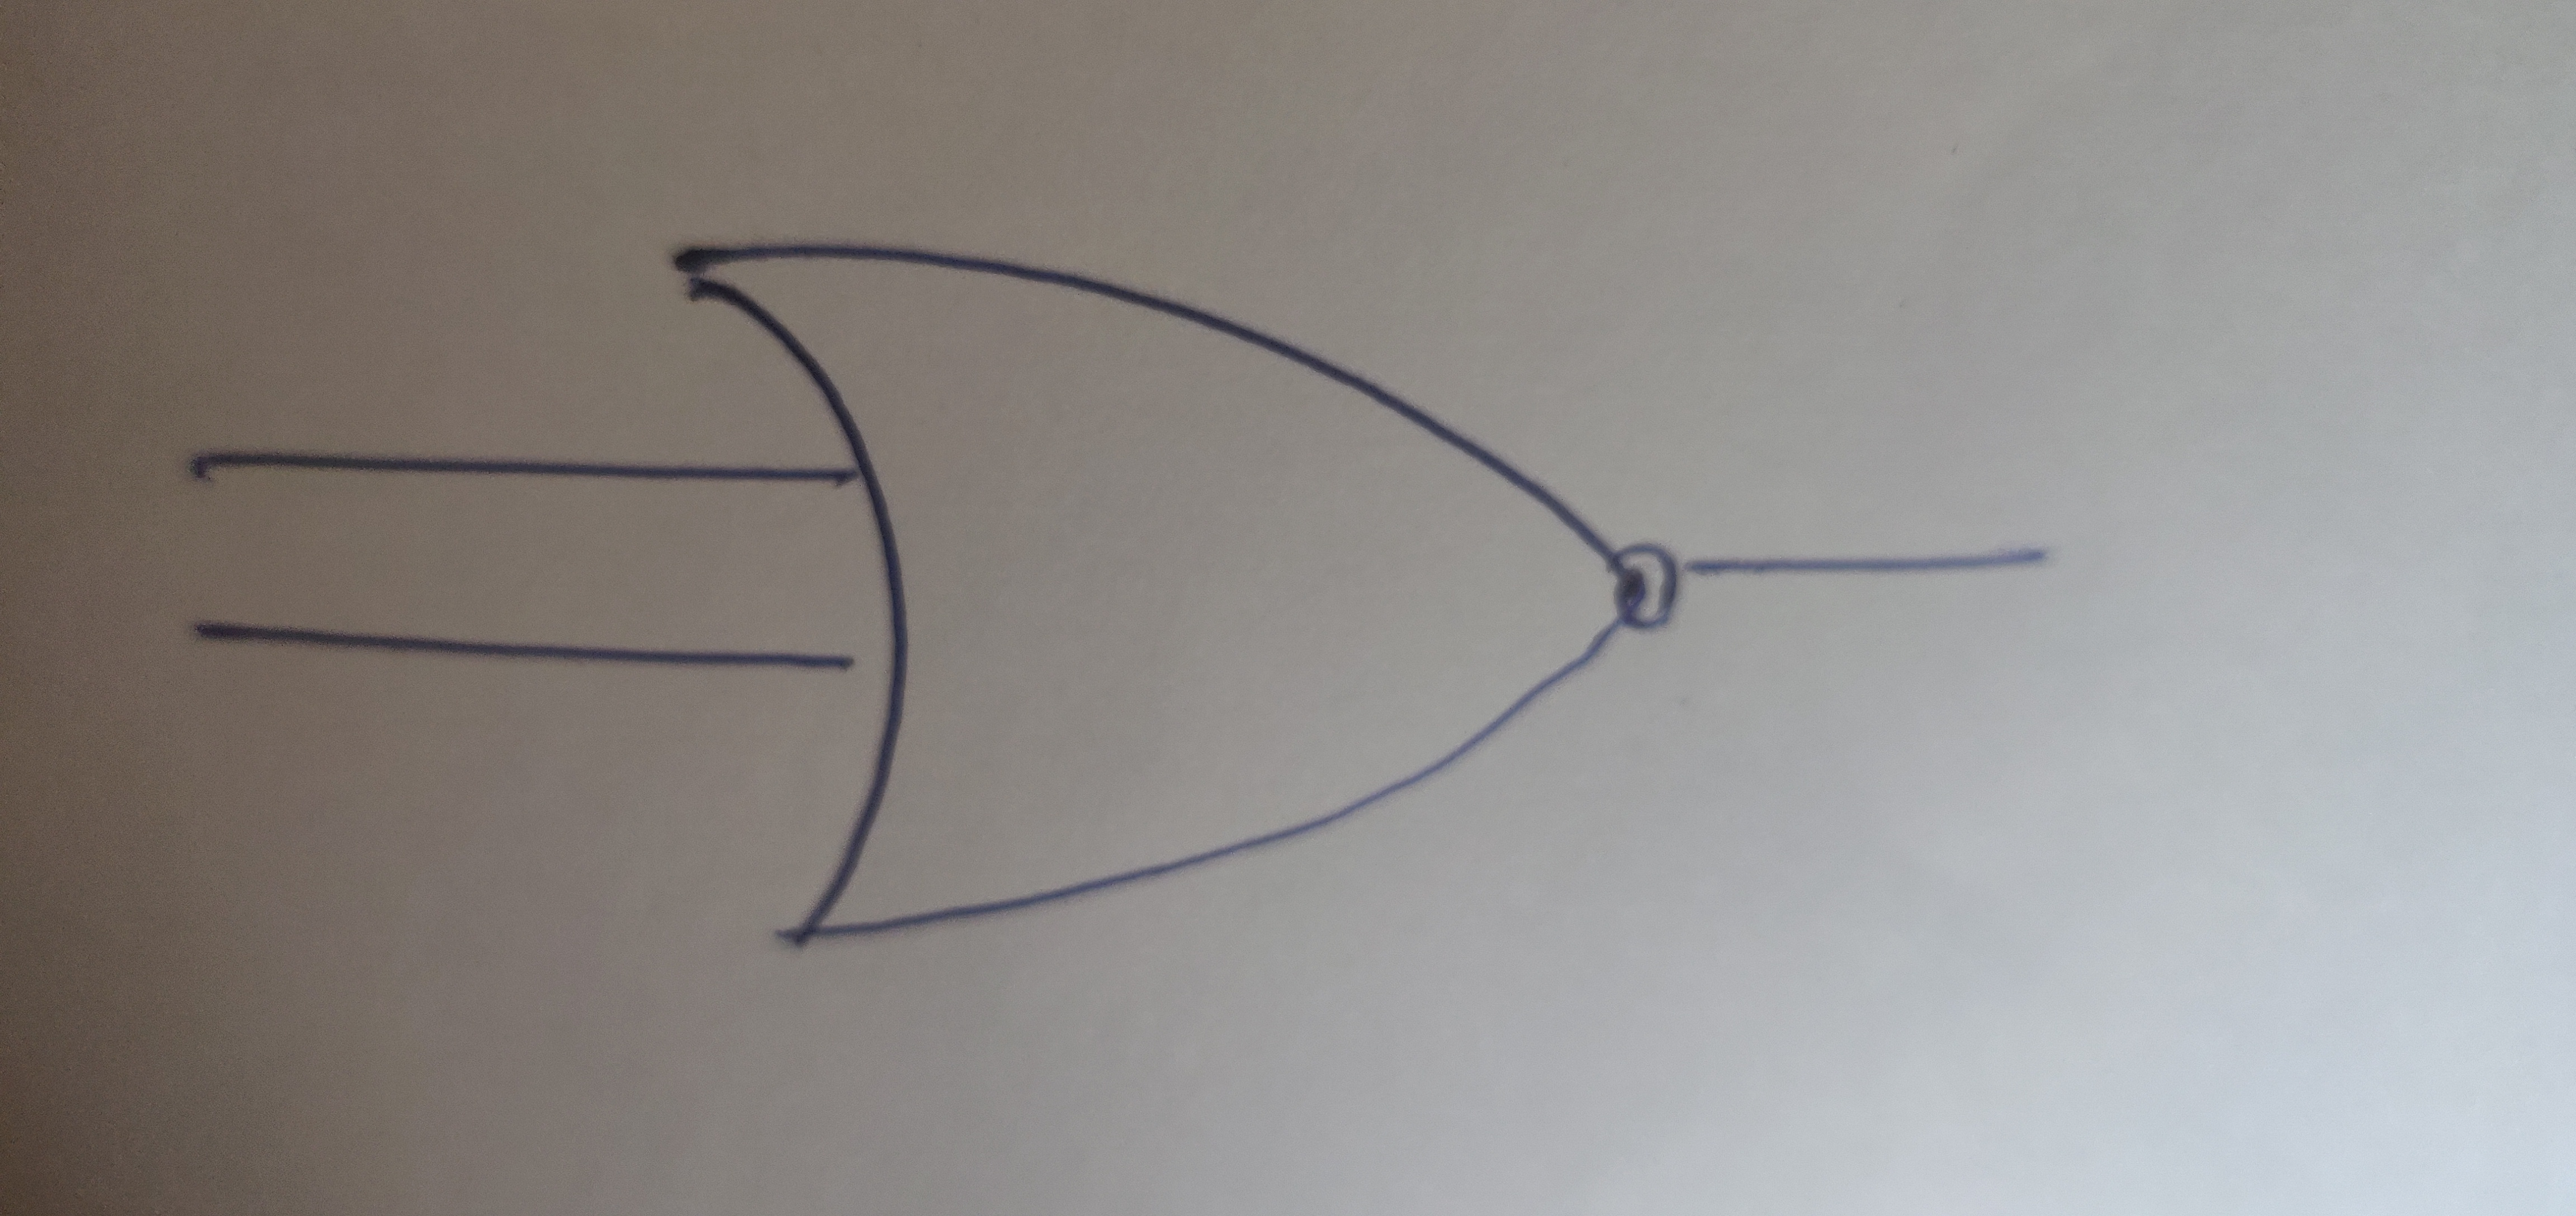nor: (608, 171, 1755, 1088)
